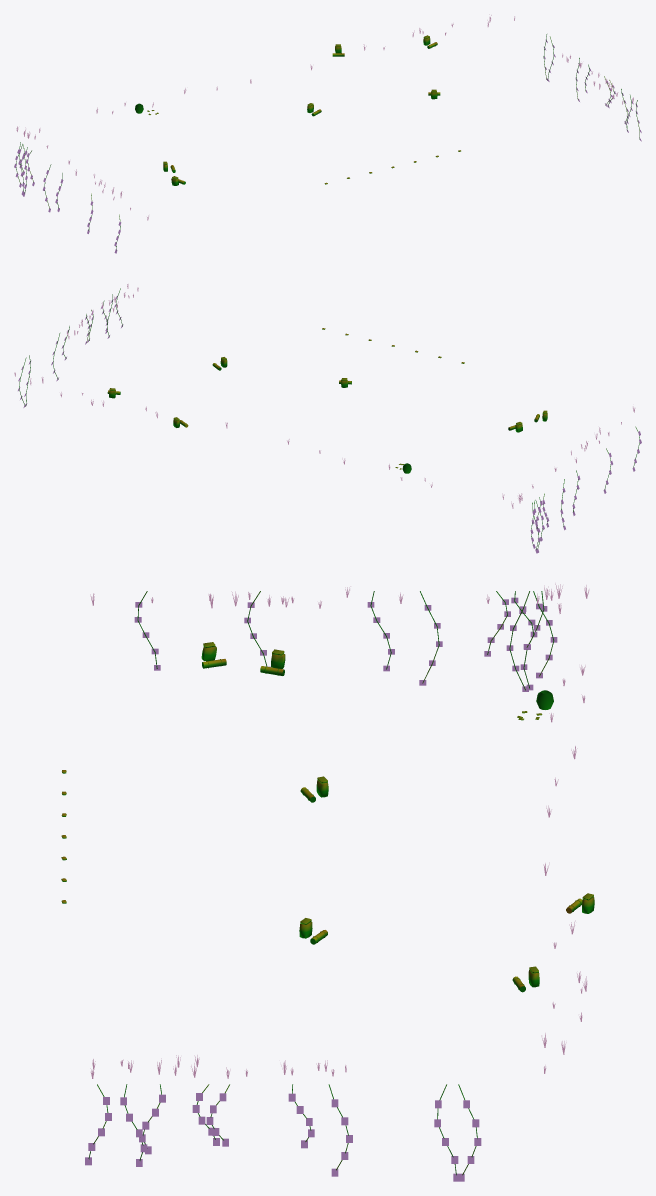
File: iskarra_vigil_dressing.glb
3 views of the same model, one above another, from view 1: azimuth 30°, elevation 25°; view 2: azimuth 150°, elevation 25°; view 3: azimuth 270°, elevation 25° (orthographic). The views are drawn at different scales.
Parts seen in each view (by area): view 1: iskarra_vigil_dressing; view 2: iskarra_vigil_dressing; view 3: iskarra_vigil_dressing.
Boxes of the visible parts, x1,y1,x2,y2 form: iskarra_vigil_dressing: [14, 14, 641, 253]; iskarra_vigil_dressing: [14, 284, 641, 553]; iskarra_vigil_dressing: [61, 583, 594, 1181].
Size of what is drawn, in the model's own units: 34.49 by 4.63 by 15.58.
